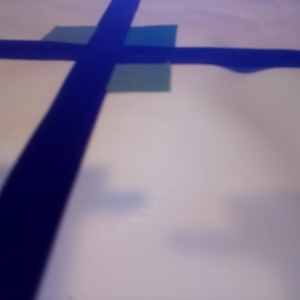bottom_right: (138, 145, 300, 262), (152, 31, 233, 63)
top_left: (108, 14, 173, 45)
